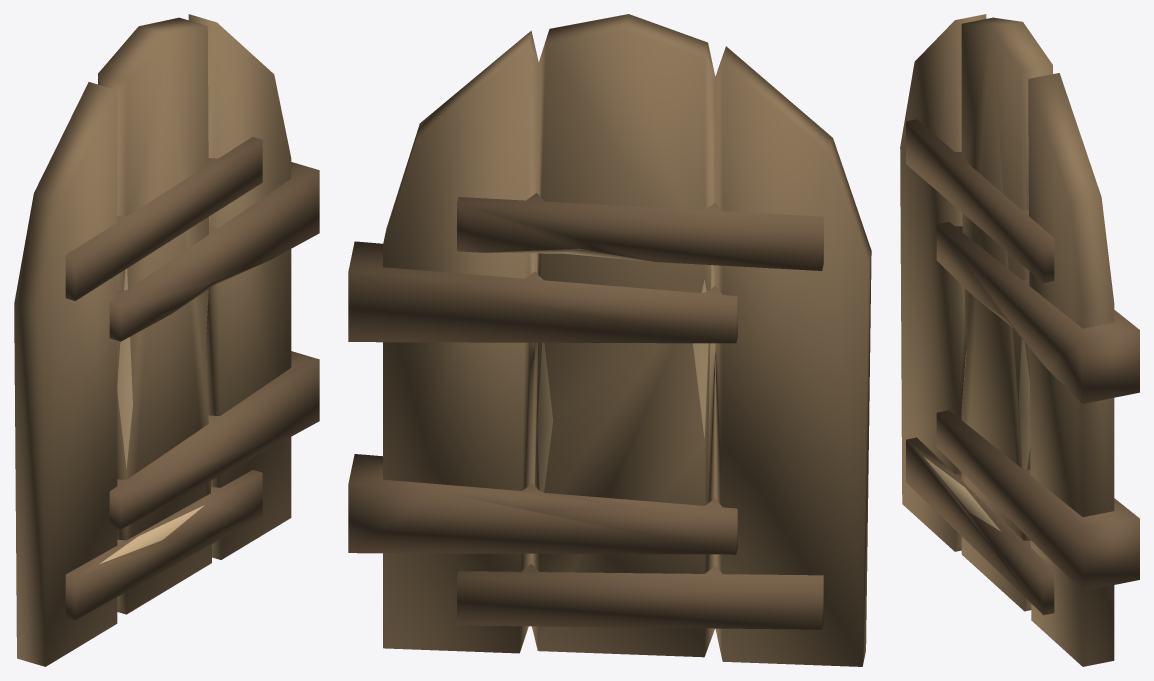
The model's file is rpgpp_ag_window_03_shutter_a.fbx.
3 views of the same model, side by side, from view 1: azimuth 30°, elevation 25°; view 2: azimuth 150°, elevation 25°; view 3: azimuth 270°, elevation 25° (orthographic). The views are drawn at different scales.
Visible parts, largest first — view 1: rpgpp_ag_window_03_shutter_a; view 2: rpgpp_ag_window_03_shutter_a; view 3: rpgpp_ag_window_03_shutter_a.
Part boxes in pixels (box(x1,y1,x2,y2)): rpgpp_ag_window_03_shutter_a: box(14, 14, 319, 666); rpgpp_ag_window_03_shutter_a: box(348, 14, 871, 666); rpgpp_ag_window_03_shutter_a: box(900, 14, 1139, 666).
Bounding box in the file's own units: 0.7719 × 1.08 × 0.4215.
